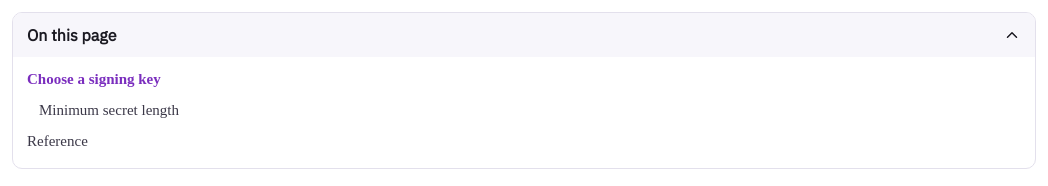
Test: OnThisPage › the box form opens and closes
This screenshot has width=1048, height=186.
Expected: the link "Reference" is shown, [27,133,88,149]
Click the button "On this page". click: (72, 35)
box: [13,13,1035,57]
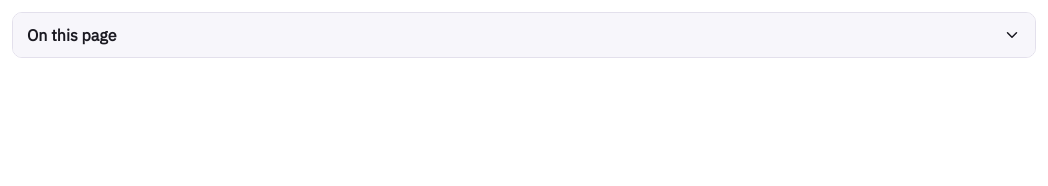
Result: the button "On this page" is collapsed at [13,13,1035,57]
Result: the link "Reference" is gone
